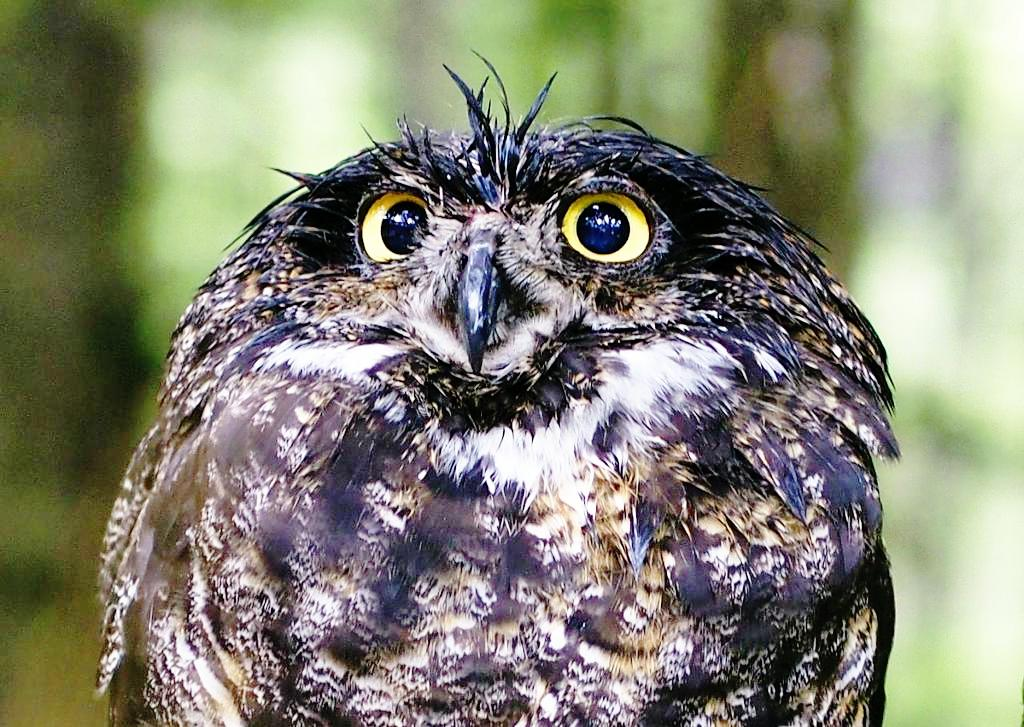Owl: (92, 93, 884, 696)
